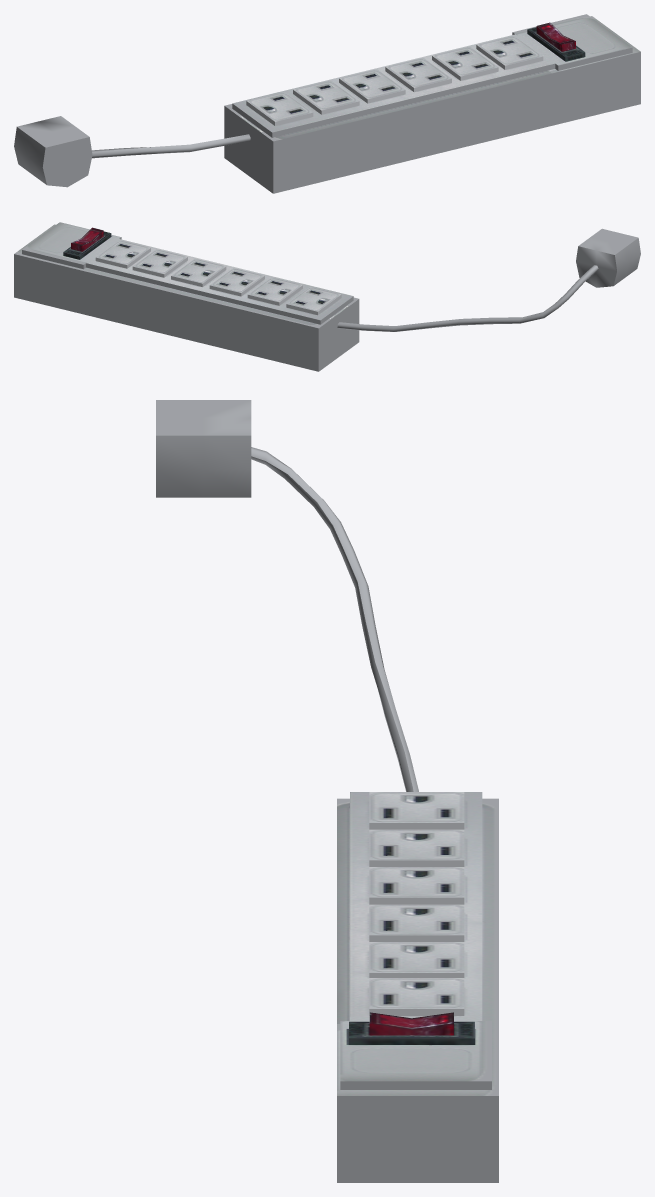
File: powerstrip_l.fbx
3 renders of one model, top to bottom at view 1: azimuth 30°, elevation 25°; view 2: azimuth 150°, elevation 25°; view 3: azimuth 270°, elevation 25°, orthographic. The views are drawn at different scales.
Visible parts, largest first — view 1: body, sockets, Box02, cord, light, lightbase; view 2: body, sockets, Box02, cord, light, lightbase; view 3: body, sockets, Box02, cord, lightbase, light.
Part boxes in pixels (bbox=[...]): body: bbox=[224, 14, 640, 193]; sockets: bbox=[246, 35, 543, 125]; Box02: bbox=[14, 116, 92, 187]; cord: bbox=[92, 134, 250, 158]; light: bbox=[536, 22, 575, 51]; lightbase: bbox=[527, 27, 585, 61]; body: bbox=[14, 222, 359, 371]; sockets: bbox=[95, 240, 341, 315]; Box02: bbox=[576, 228, 640, 287]; cord: bbox=[337, 265, 598, 331]; light: bbox=[71, 227, 103, 251]; lightbase: bbox=[63, 231, 111, 259]; body: bbox=[337, 792, 498, 1182]; sockets: bbox=[369, 792, 464, 1015]; Box02: bbox=[156, 400, 251, 497]; cord: bbox=[251, 447, 418, 791]; lightbase: bbox=[349, 1021, 474, 1044]; light: bbox=[369, 1012, 453, 1035].
Size of the model in its own units: 2.31 by 0.5236 by 0.6337.
